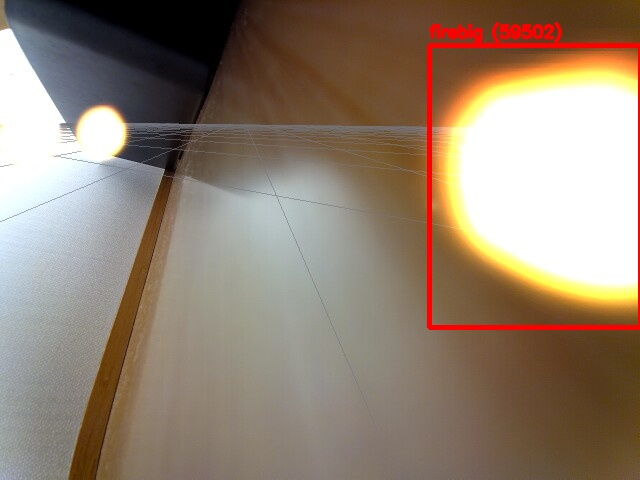firebig: (429, 45, 640, 327)
